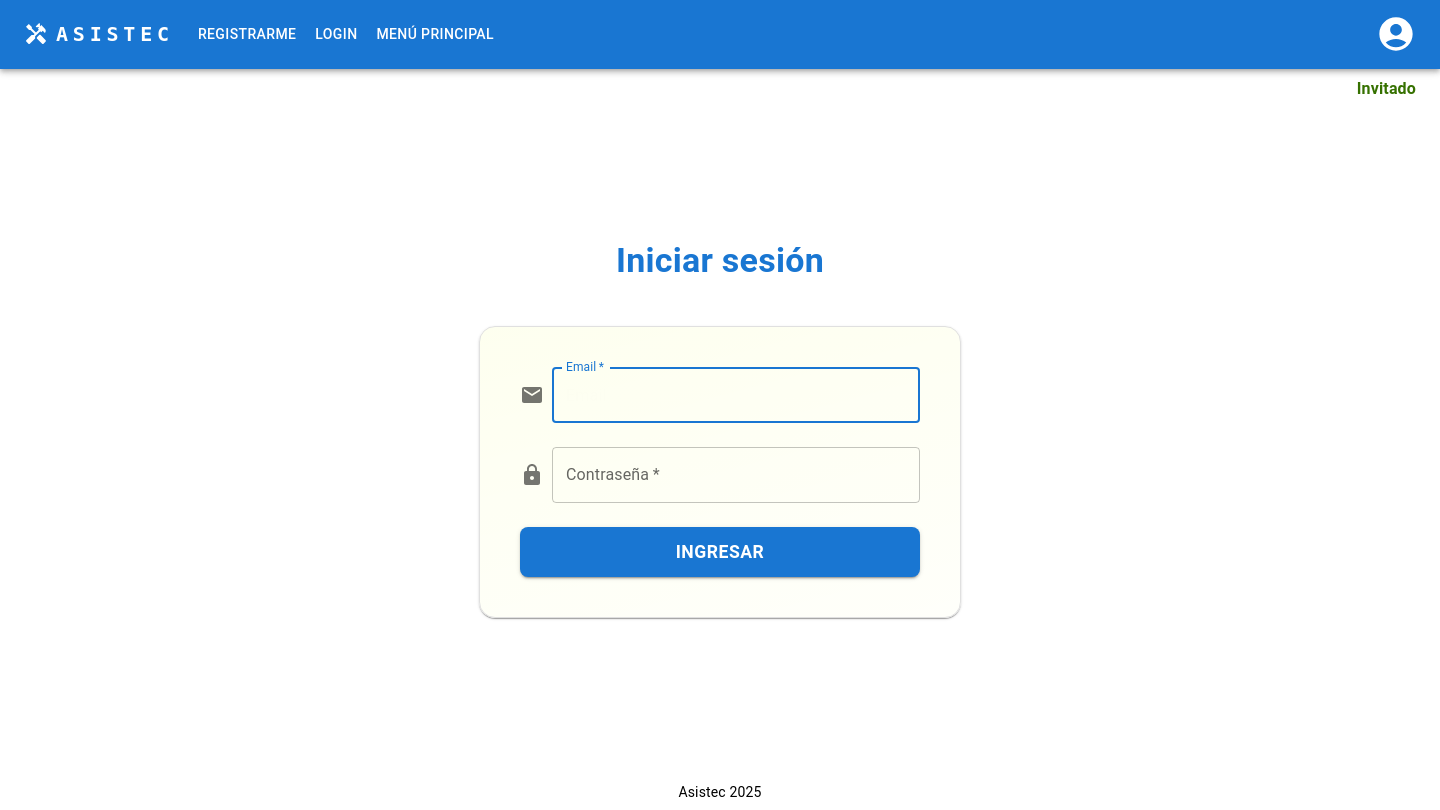
Scenario: Login › muestra error si la API falla
Type "fail@example.com" into the field labelled "Email *" at (736, 395), box x1=552 y1=367 x2=920 y2=423
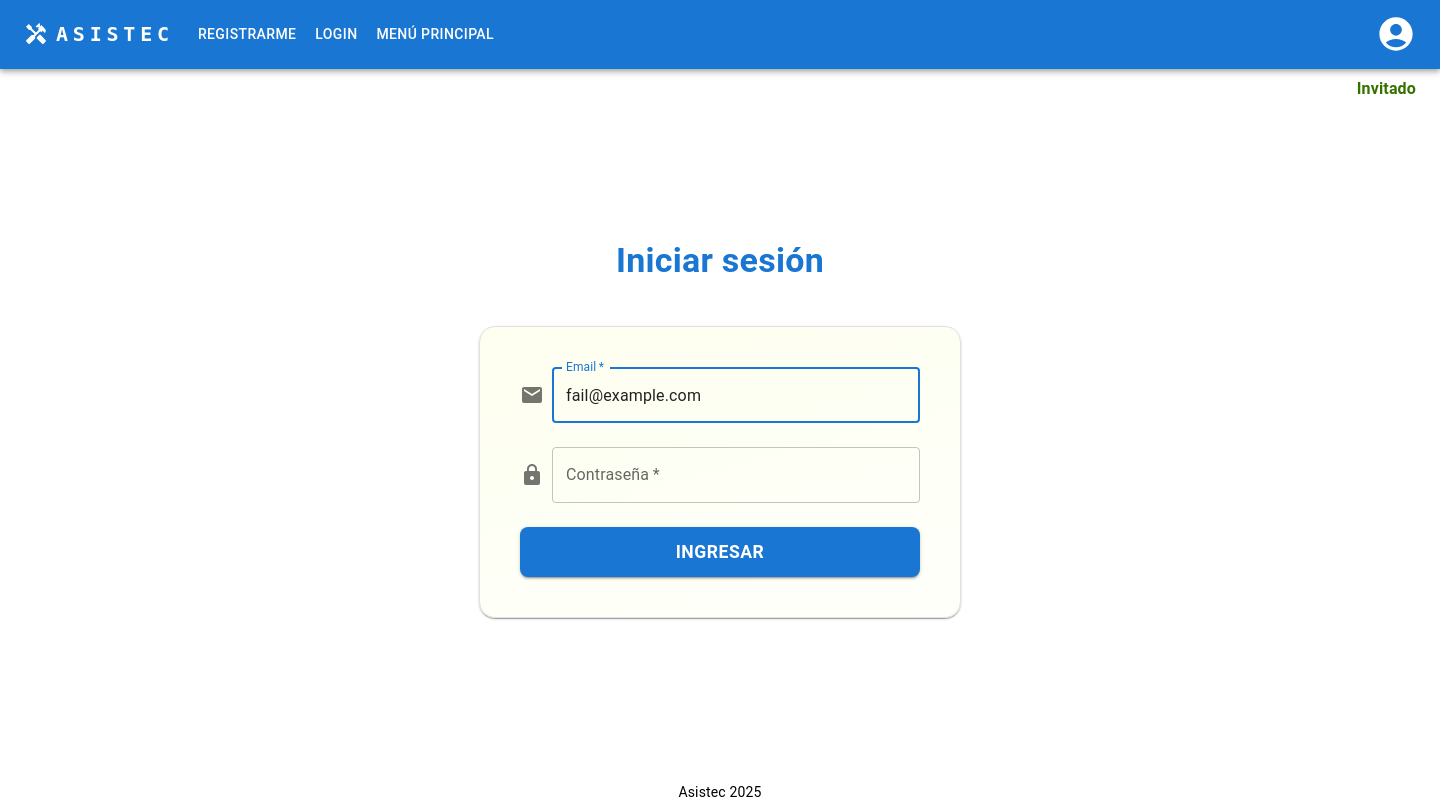
Type "123456" into the password field labelled "Contraseña *" at (736, 475), box x1=552 y1=447 x2=920 y2=503
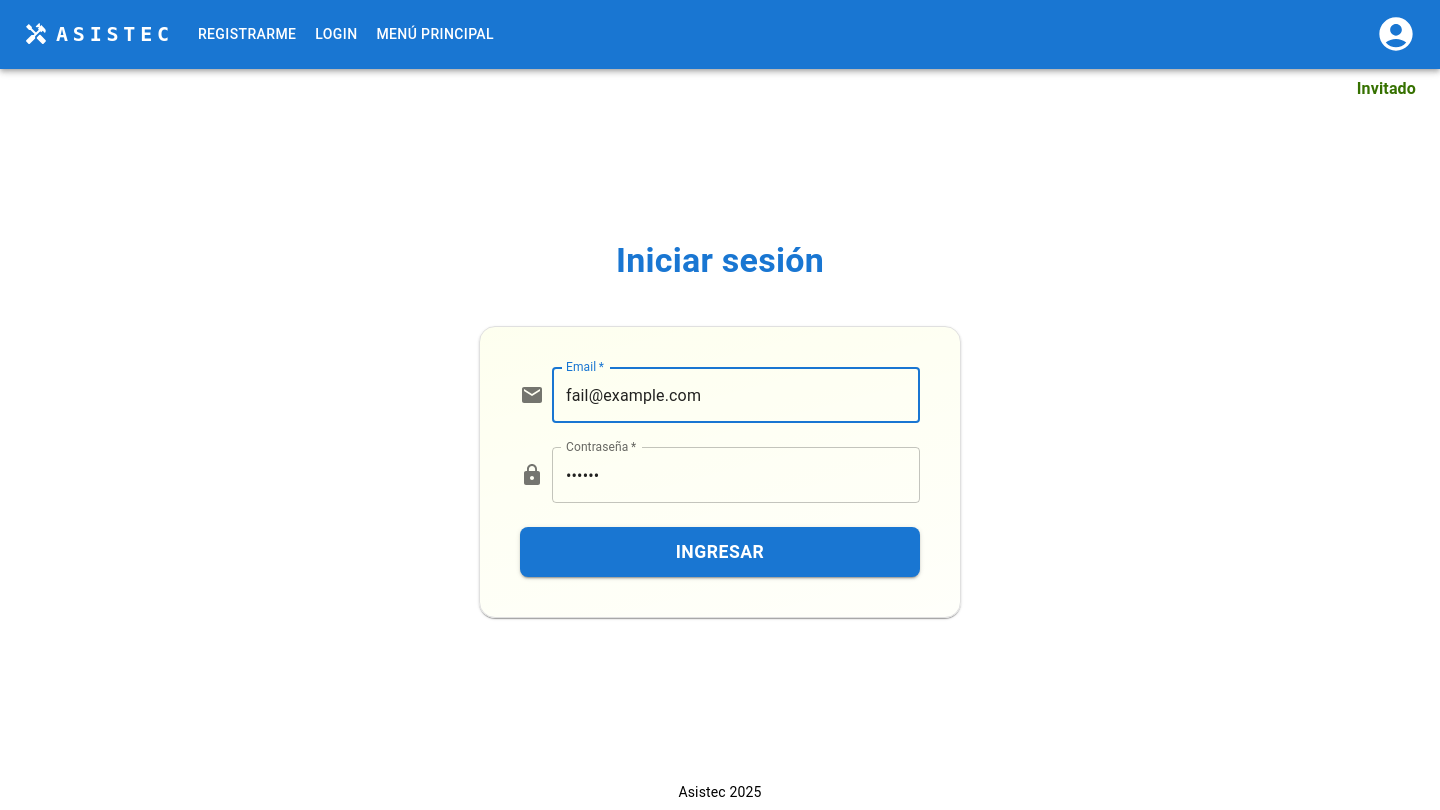
Click the button "Ingresar" at (720, 552), box x1=520 y1=527 x2=920 y2=577
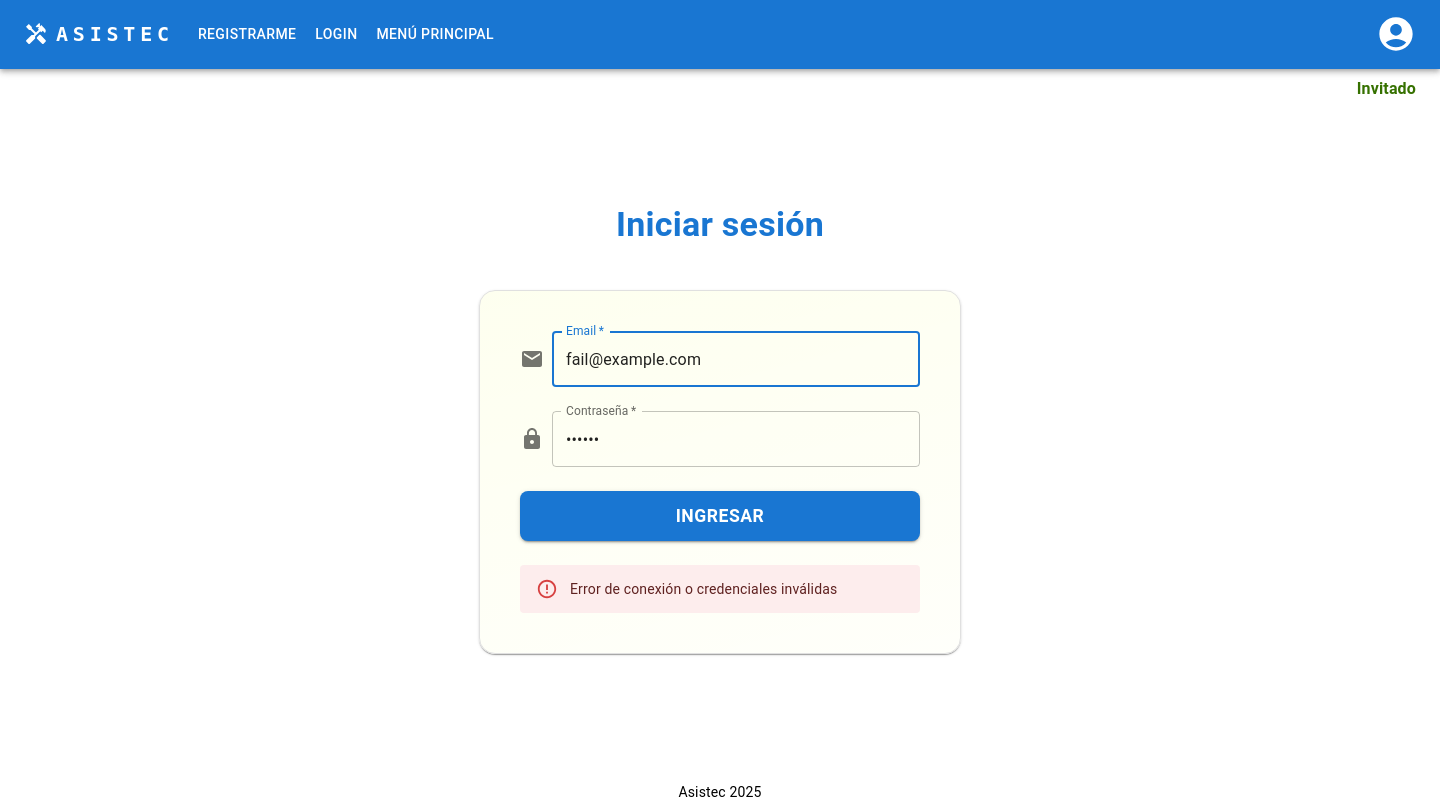
Check: the text "Error de conexión o credenciales inválidas" is shown, box x1=570 y1=581 x2=837 y2=597
